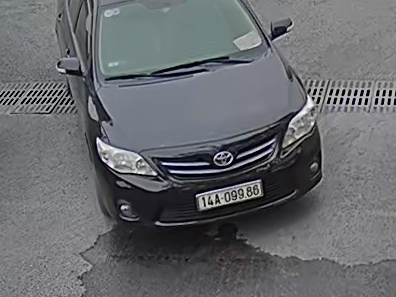vehicle plate: (193, 179, 264, 215)
